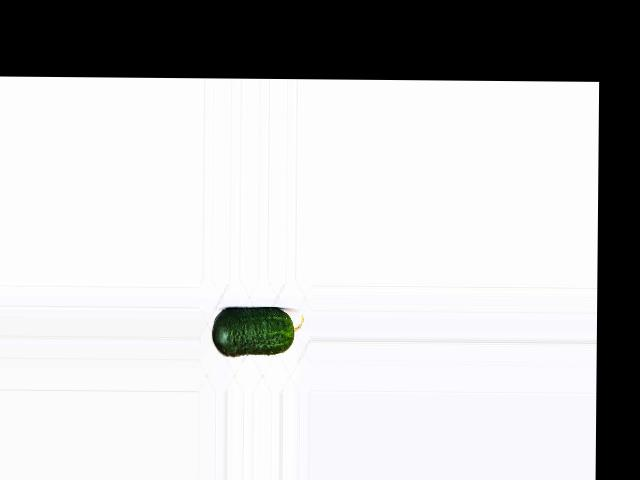cucumber: (212, 307, 304, 356)
